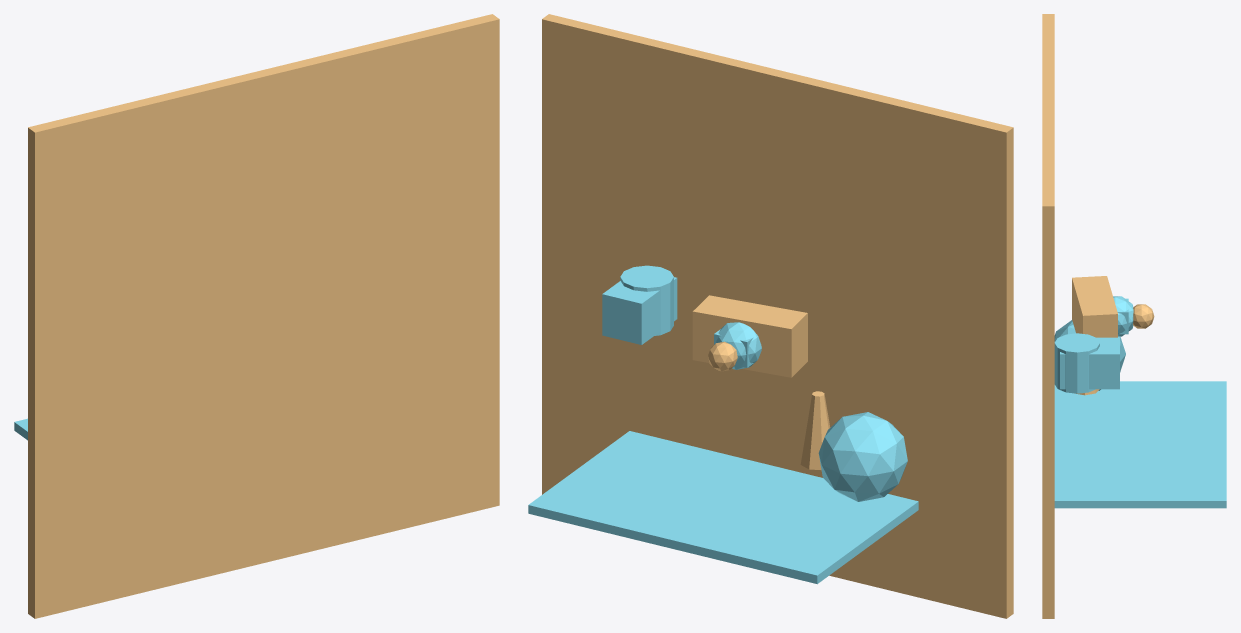
The model's file is hover-league-zero-kit.glb.
3 renders of one model, left to right at view 1: azimuth 30°, elevation 25°; view 2: azimuth 150°, elevation 25°; view 3: azimuth 270°, elevation 25°, orthographic. The views are drawn at different scales.
Visible parts, largest first — view 1: ENVIRONMENT_GROUND; view 2: ENVIRONMENT_GROUND, ENVIRONMENT_GATE, PROFILE_ENVIRONMENT_DETAIL, PLAYER_BODY, PROFILE_OBSTACLE_DETAIL, OBSTACLE, PROFILE_ENVIRONMENT_SPIRE, PLAYER_CORE, PROFILE_PLAYER_HEAD; view 3: ENVIRONMENT_GATE, ENVIRONMENT_GROUND, PLAYER_BODY, OBSTACLE, PROFILE_OBSTACLE_DETAIL, PLAYER_CORE, PROFILE_PLAYER_HEAD, PROFILE_ENVIRONMENT_DETAIL.
Boxes of the visible parts, left/top/right/bottom form: ENVIRONMENT_GROUND: left=28, top=14, right=499, bottom=618; ENVIRONMENT_GROUND: left=542, top=14, right=1013, bottom=618; ENVIRONMENT_GATE: left=528, top=431, right=918, bottom=584; PROFILE_ENVIRONMENT_DETAIL: left=818, top=412, right=907, bottom=501; PLAYER_BODY: left=692, top=295, right=807, bottom=377; PROFILE_OBSTACLE_DETAIL: left=602, top=277, right=677, bottom=344; OBSTACLE: left=620, top=265, right=673, bottom=335; PROFILE_ENVIRONMENT_SPIRE: left=800, top=391, right=830, bottom=470; PLAYER_CORE: left=716, top=322, right=761, bottom=369; PROFILE_PLAYER_HEAD: left=708, top=341, right=737, bottom=371; ENVIRONMENT_GATE: left=1054, top=381, right=1226, bottom=508; ENVIRONMENT_GROUND: left=1042, top=14, right=1054, bottom=618; PLAYER_BODY: left=1072, top=276, right=1117, bottom=337; OBSTACLE: left=1054, top=333, right=1099, bottom=393; PROFILE_OBSTACLE_DETAIL: left=1060, top=337, right=1119, bottom=389; PLAYER_CORE: left=1113, top=296, right=1133, bottom=336; PROFILE_PLAYER_HEAD: left=1133, top=304, right=1154, bottom=328; PROFILE_ENVIRONMENT_DETAIL: left=1054, top=320, right=1125, bottom=390.
Size of what is drawn, in the model's own units: 9 by 9 by 3.64.
